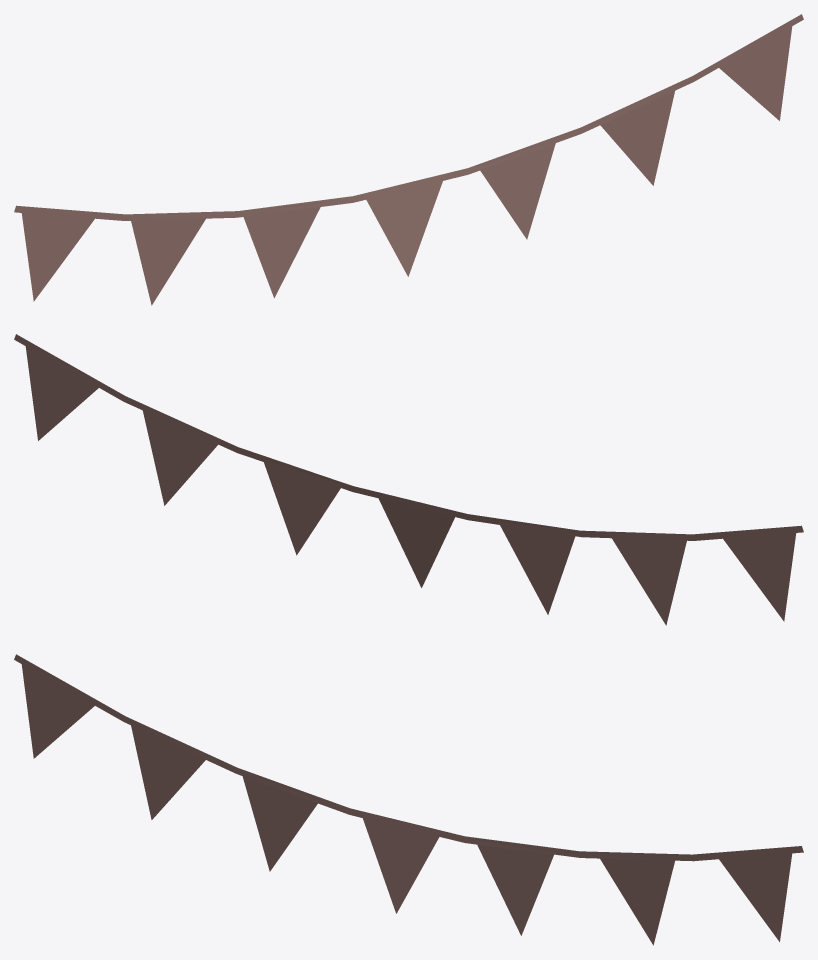
The model's file is envBanner.fbx.
3 renders of one model, top to bottom at view 1: azimuth 30°, elevation 25°; view 2: azimuth 150°, elevation 25°; view 3: azimuth 330°, elevation 25°, orthographic.
Visible parts, largest first — view 1: envBanner; view 2: envBanner; view 3: envBanner.
Part boxes in pixels (x1,y1,x2,y2): envBanner: [14, 14, 803, 305]; envBanner: [14, 334, 803, 625]; envBanner: [14, 654, 803, 945].
Bounding box in the file's own units: 1.56 × 0.3043 × 0.0204.
